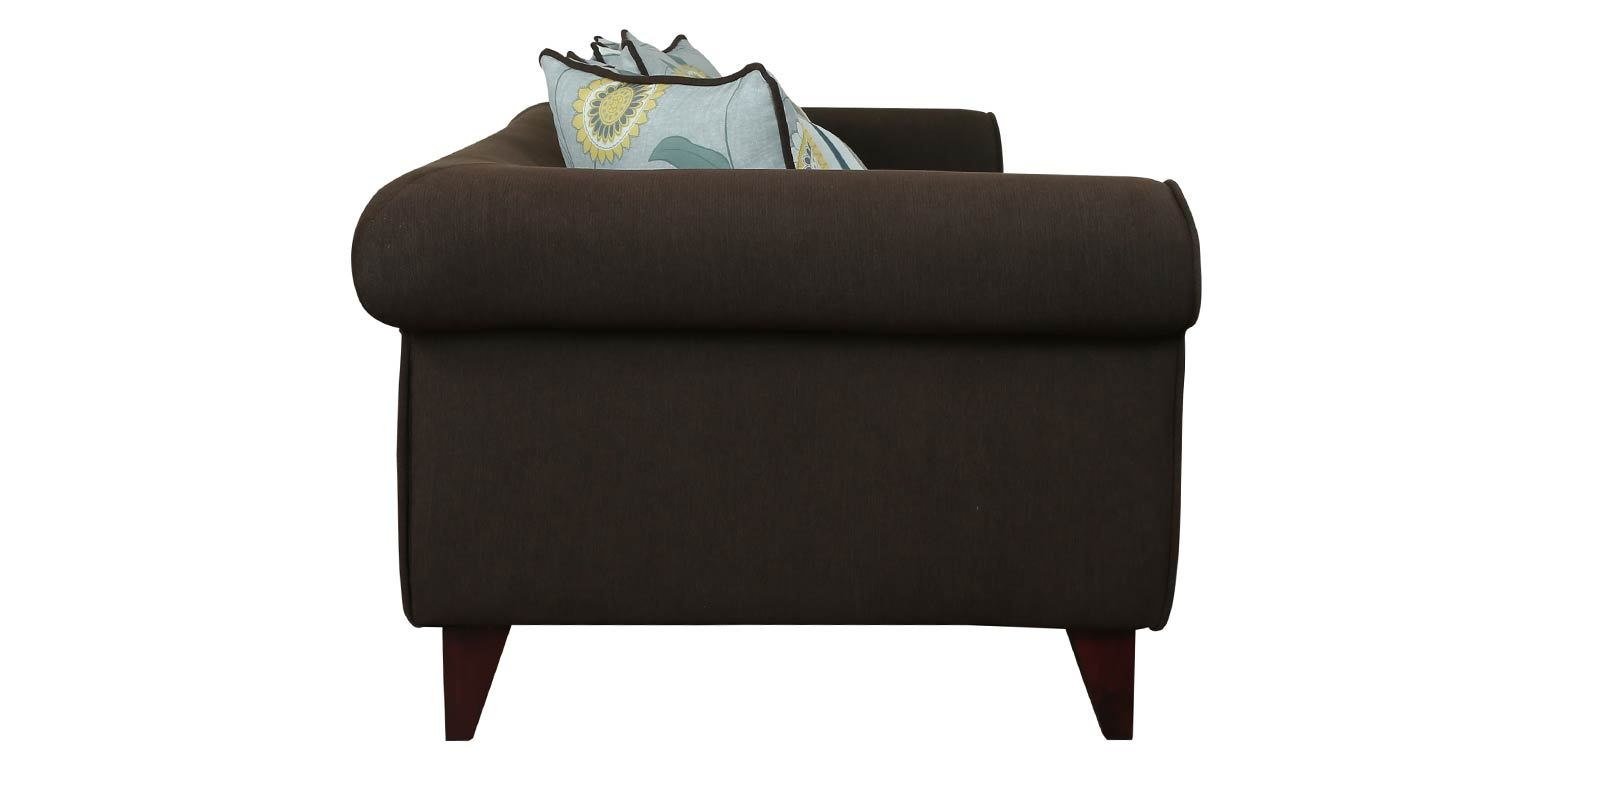Cielo Three Seater Sofa in Chestnut Brown Colour by CasaCraft: (331, 36, 1229, 726)
